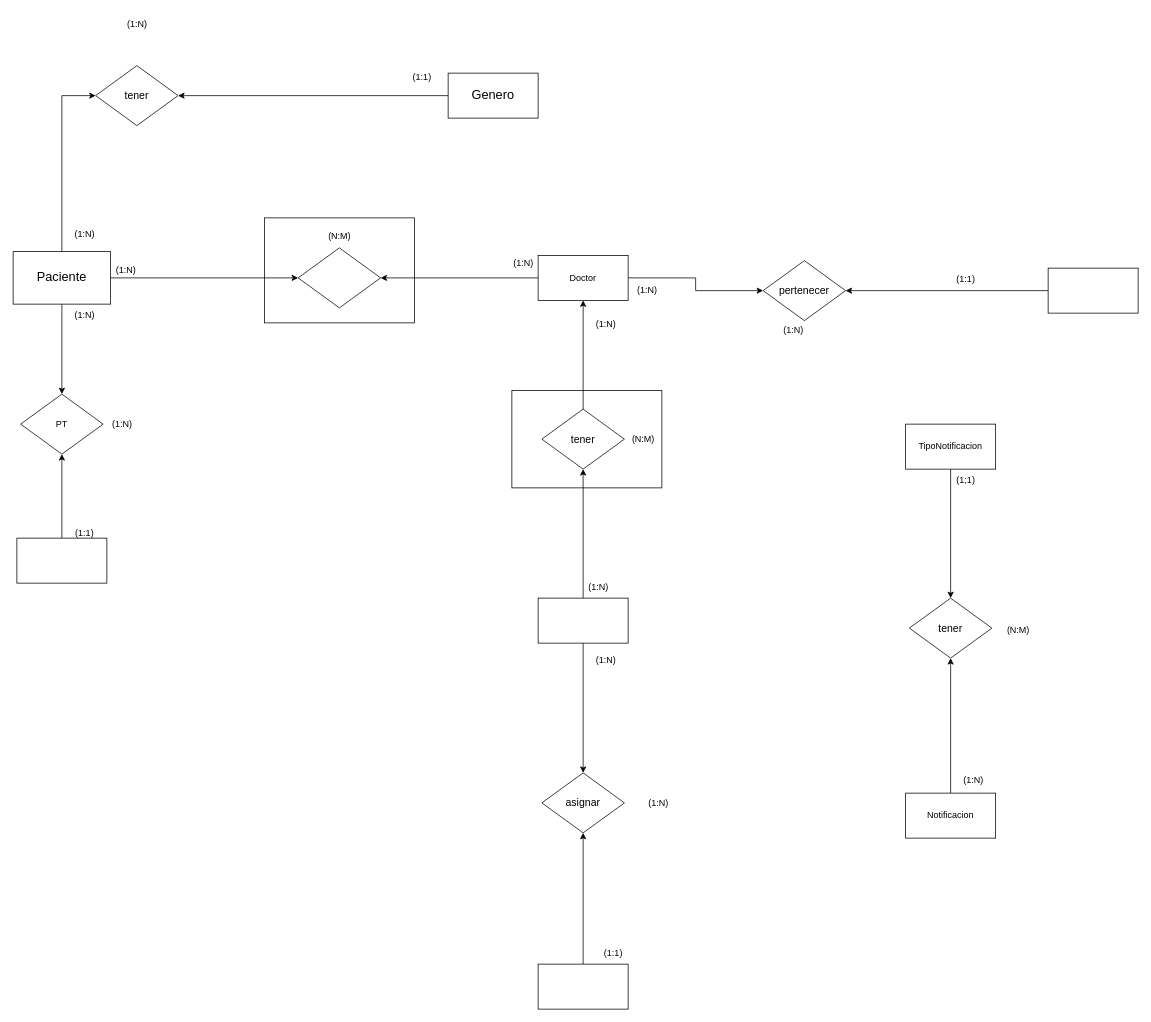
Image size: 1151x1022. Some labels were removed from this diagram. The centre of each missing label's shape, as x and y in pixels:
CITAR: (x=339, y=277)
Especilidad: (x=1092, y=290)
Horario: (x=582, y=620)
TipoSangre: (x=61, y=560)
Turno: (x=582, y=986)
